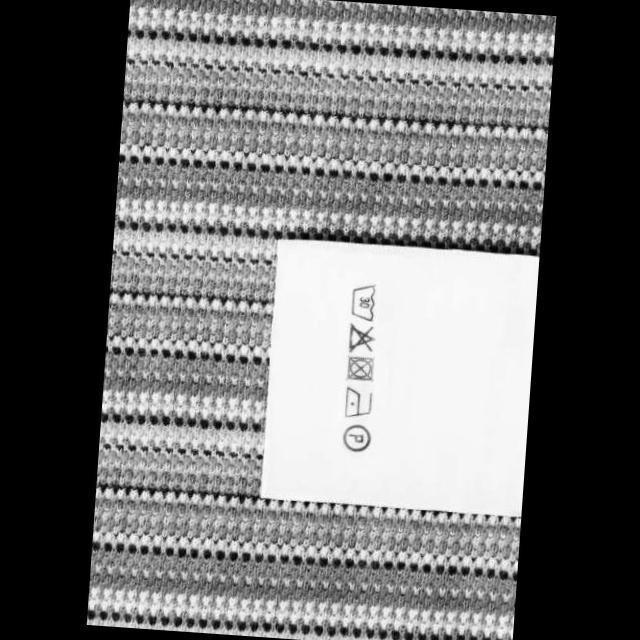30C: (348, 280, 378, 324)
DN_bleach: (344, 320, 378, 356)
DN_tumble_dry: (340, 352, 376, 385)
iron_low: (338, 382, 375, 423)
normal_dry_clean_solvents: (340, 421, 372, 455)
